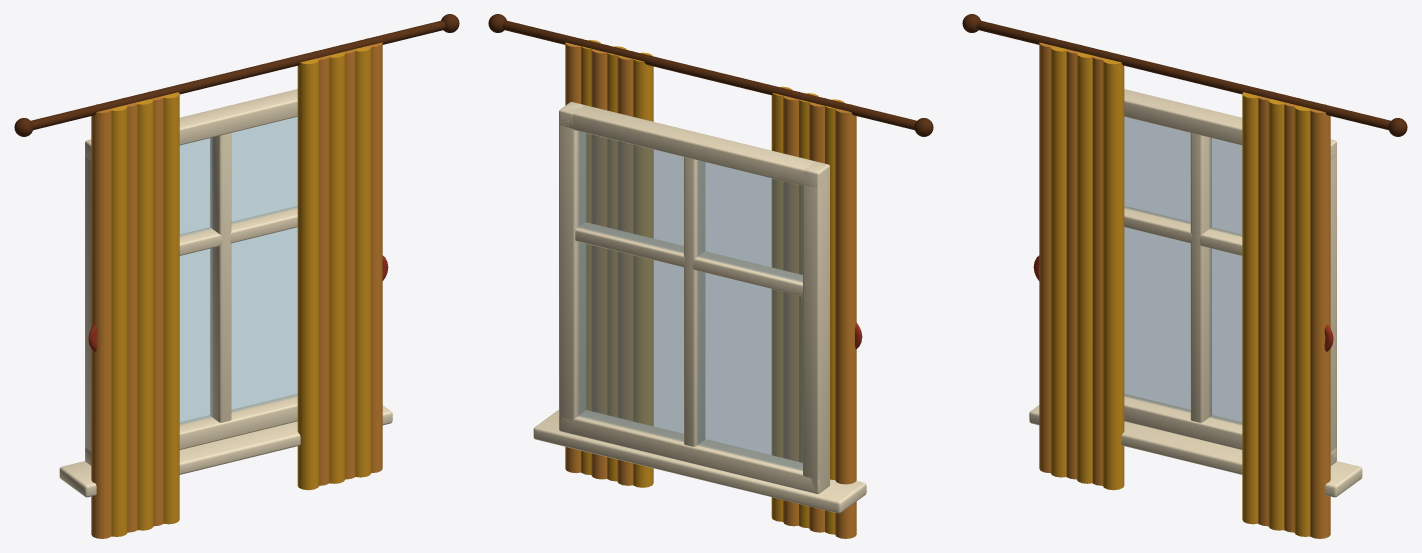
Rendered from window.glb.
3 views of the same model, side by side, from view 1: azimuth 30°, elevation 25°; view 2: azimuth 150°, elevation 25°; view 3: azimuth 330°, elevation 25° (orthographic).
Parts seen in each view (by area): view 1: window; view 2: window; view 3: window.
Part boxes in pixels (<box>): window: <box>14,14,459,538</box>; window: <box>488,14,933,538</box>; window: <box>962,14,1407,538</box>.
Bounding box in the file's own units: 1.87 × 1.75 × 0.232.
